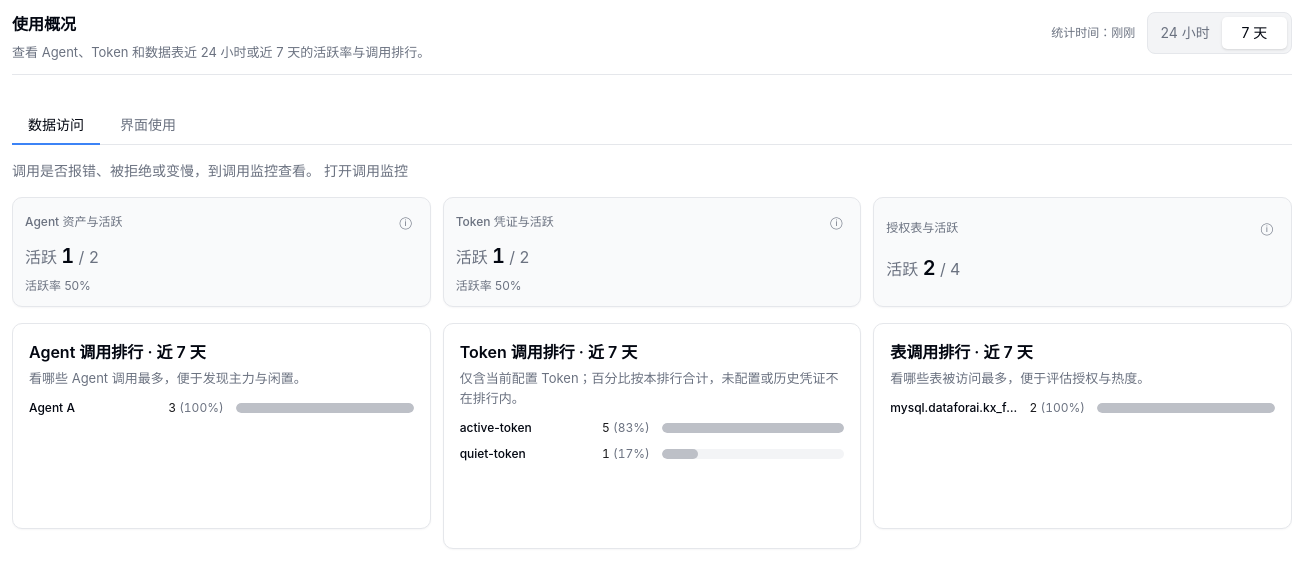
Test: GovernanceOverview › switches window and refreshes usage queries, keeping window text in titles
This screenshot has width=1292, height=566.
Check: the link "Agent A" is shown, box [29,400,75,415]
Check: the text "1" below "资产与活跃" is shown, box [61,244,74,268]
What coordinates should you click on to do the following:
click the tab with test id "governance-window-24h"
I would click on:
 (1185, 33)
Its box is [1152,17,1218,49].
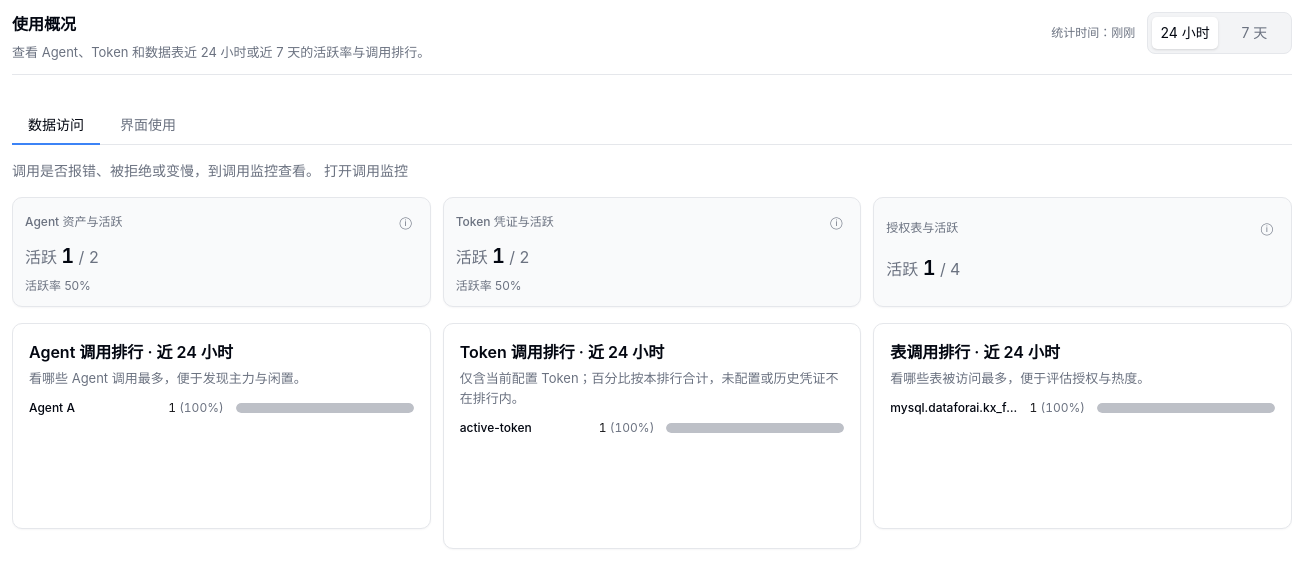
Check: the text "1" below "授权表与活跃" is shown, box [923,256,936,280]
Check: the heading "Agent 调用排行 · 近 24 小时" is shown, box [29,342,233,362]
